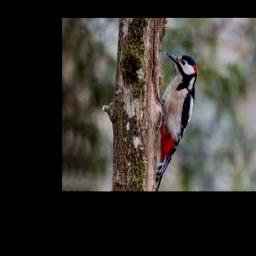Woodpecker: (155, 52, 197, 191)
